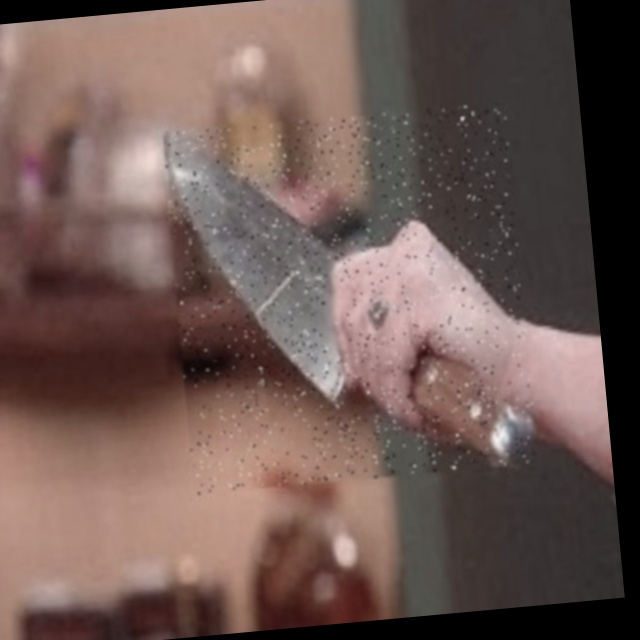Sharp-Object: (161, 103, 538, 495)
